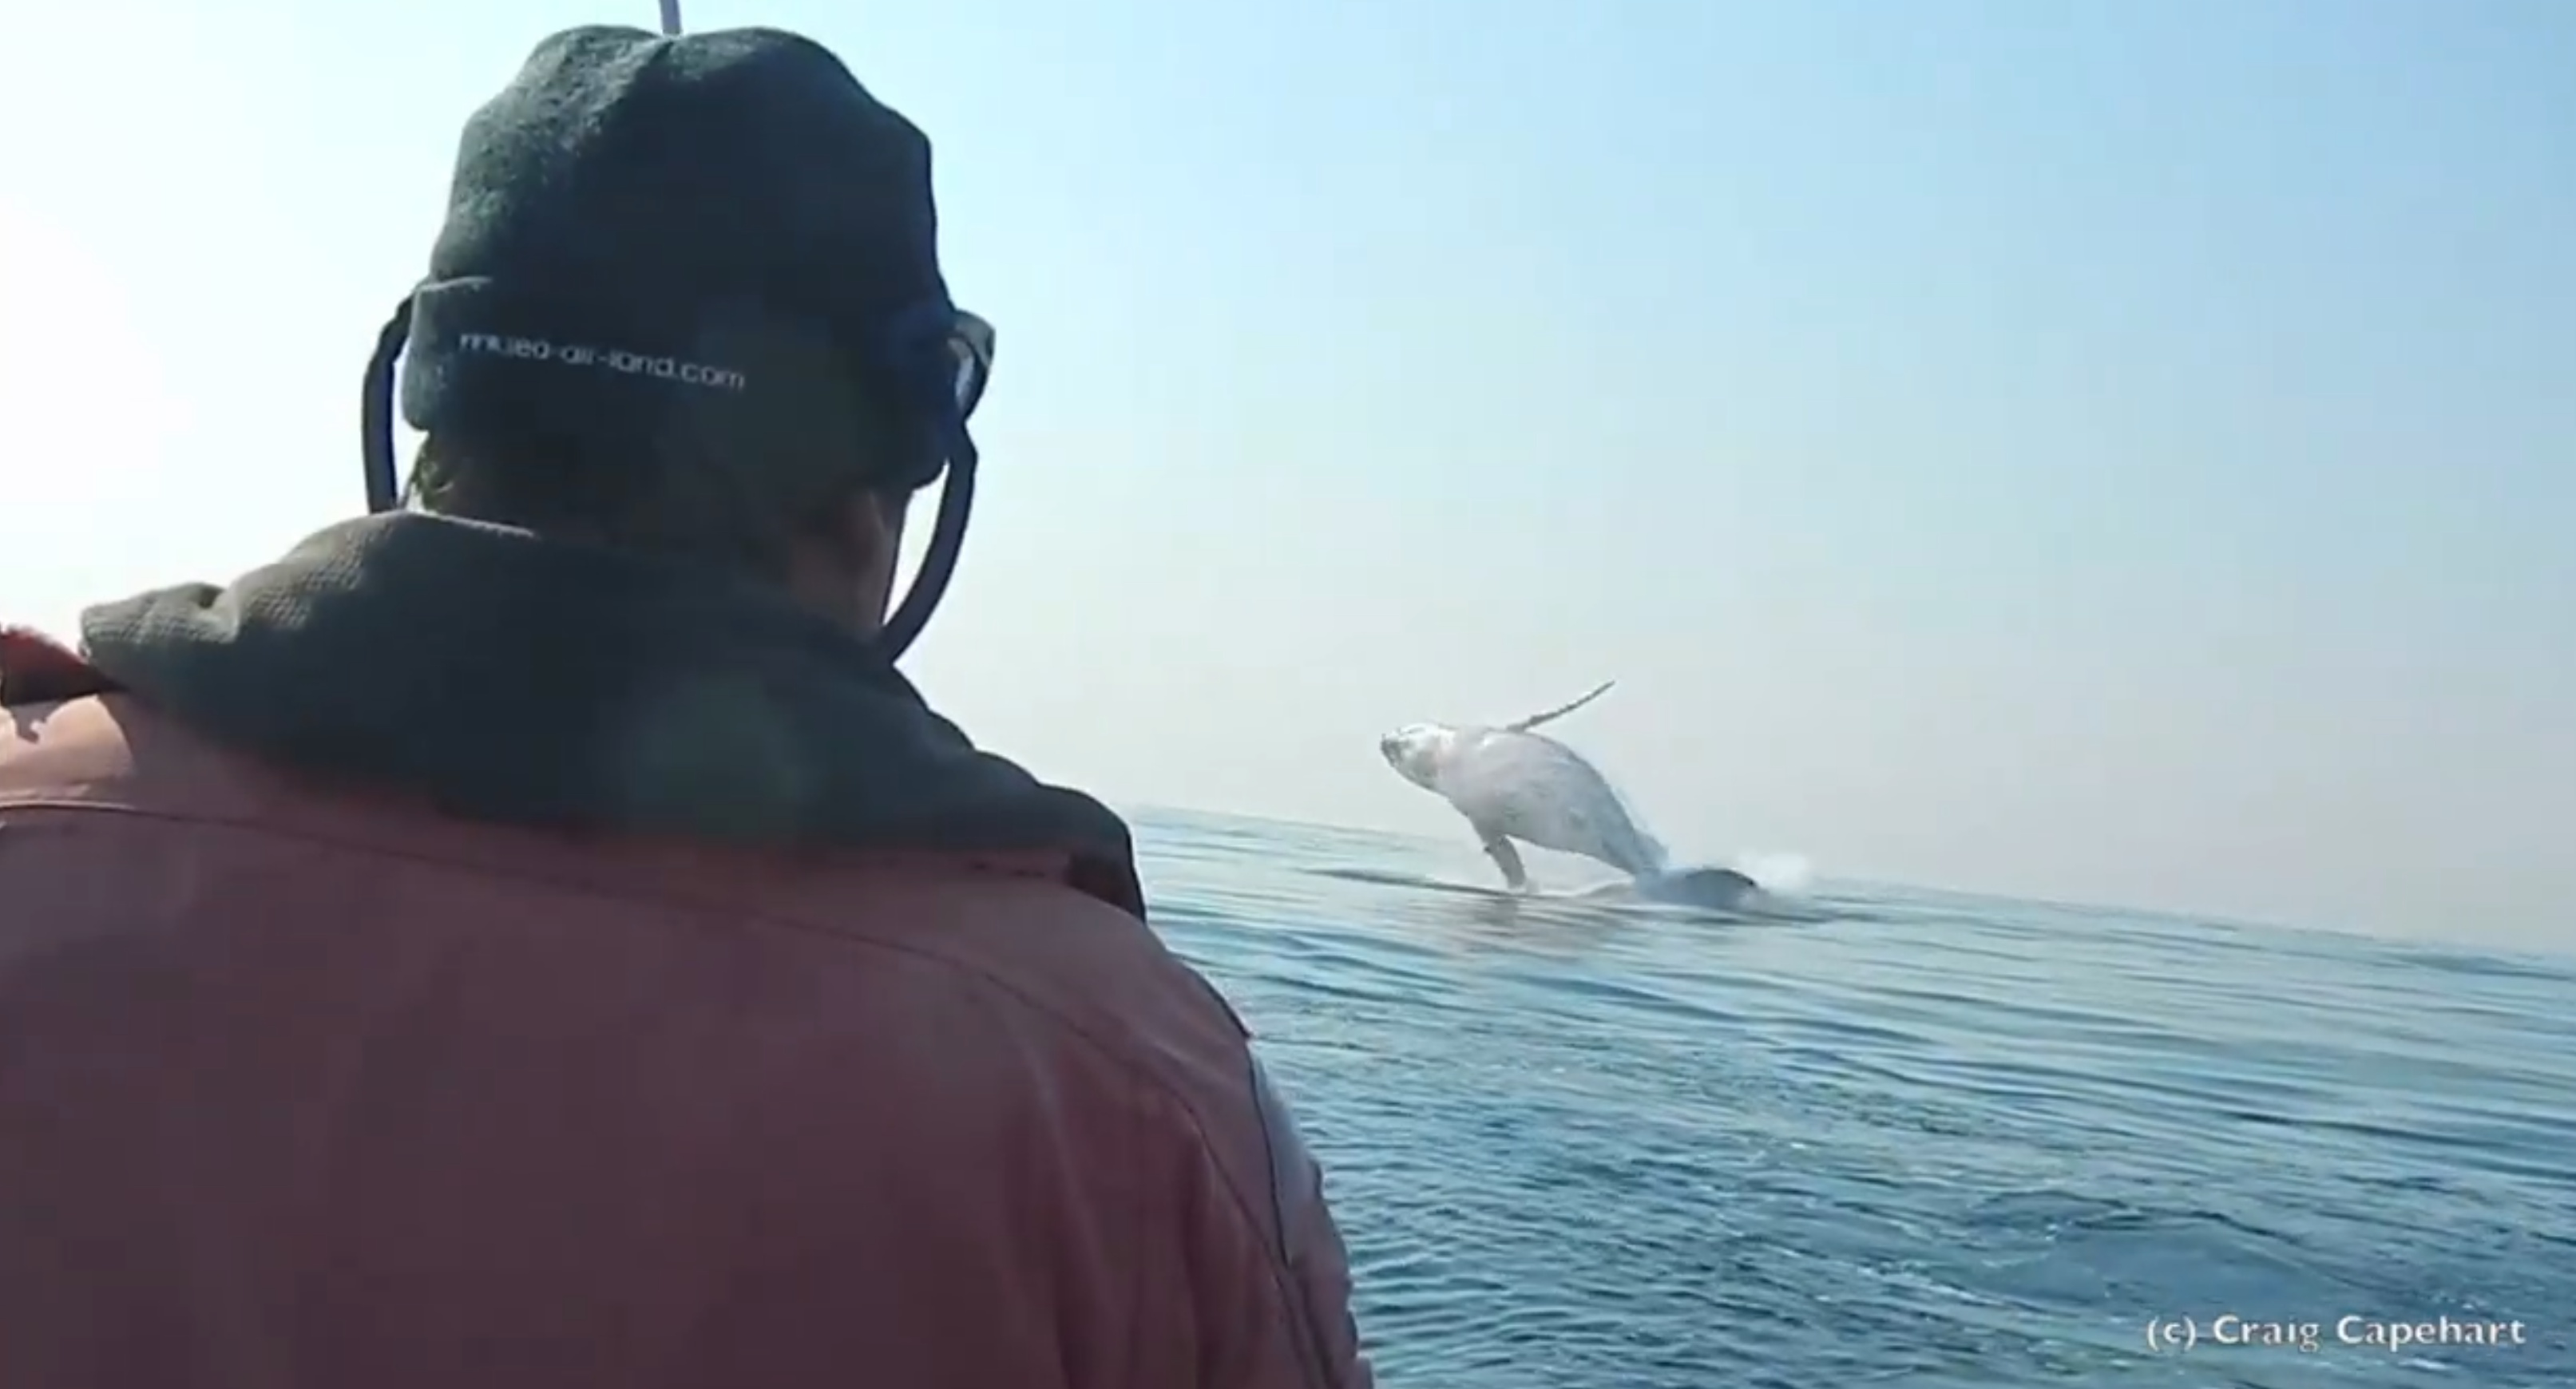humpback: (1374, 708, 1671, 893)
